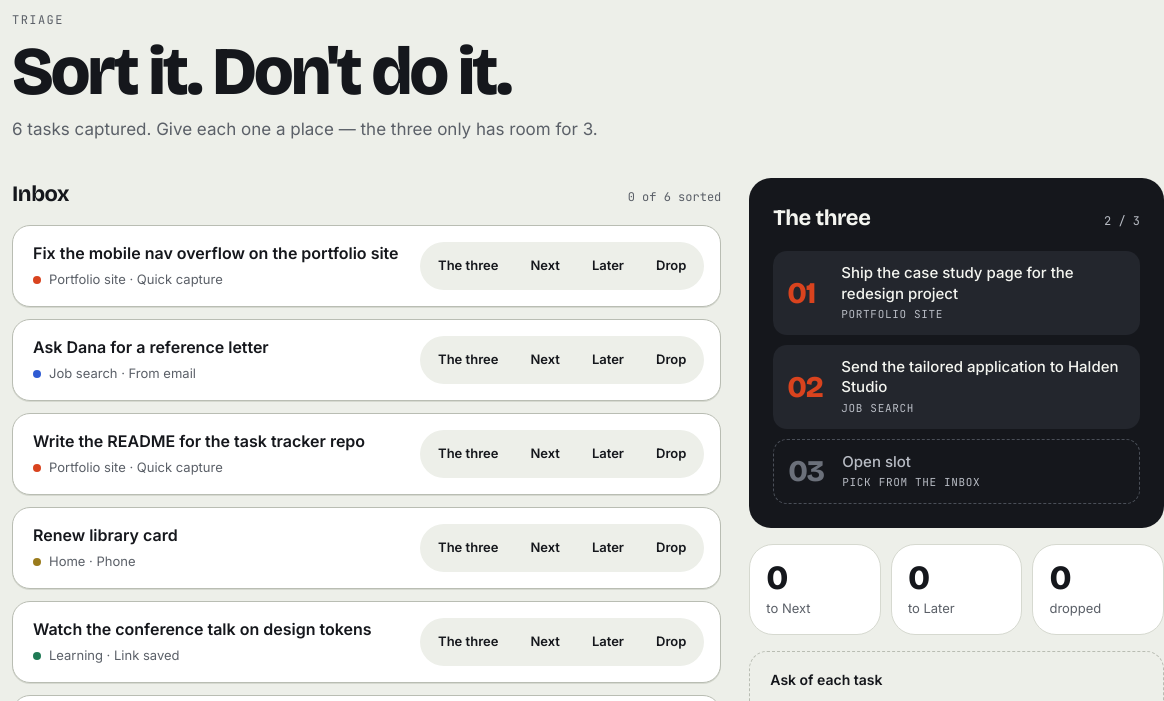
Test: Triage › fills an open slot, then locks the rest
expect the text "Open slot" is shown: met, box [842, 452, 911, 471]
Click the button "The three" next to "Ask Dana for a reference letter": x=468, y=360 [424, 340, 512, 380]
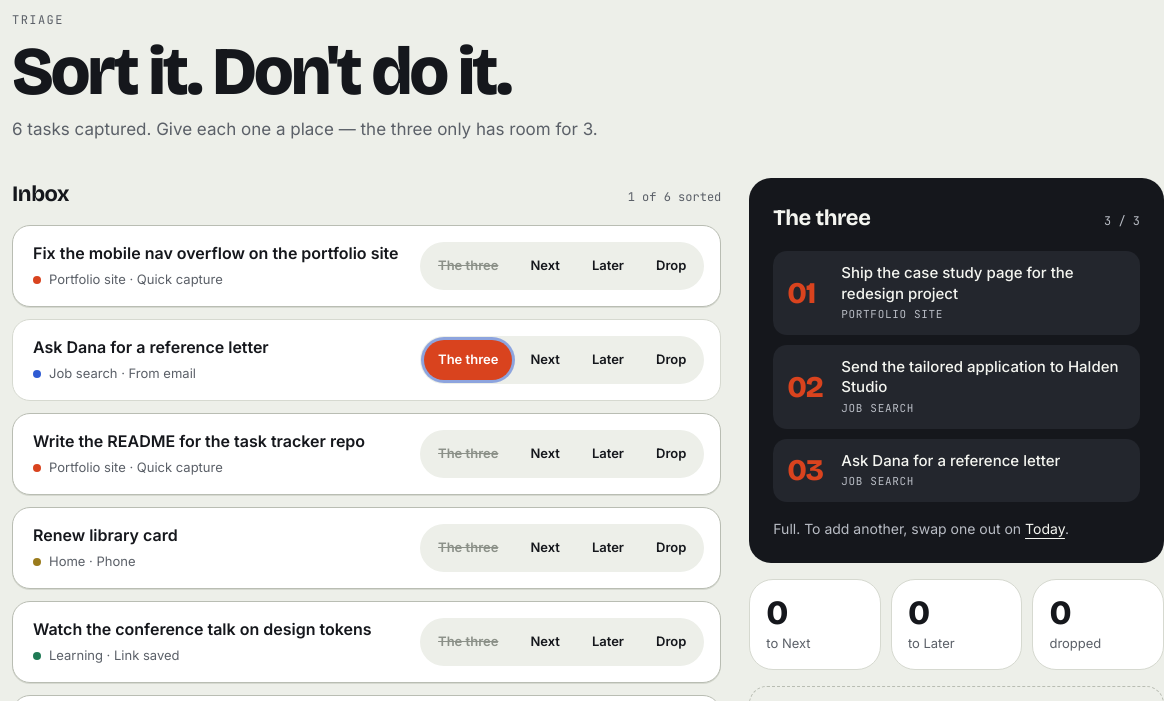
expect the text "Ask Dana for a reference letter" next to "03" is shown: met, box [841, 451, 1060, 470]
expect the button "The three" in the row of "Renew library card" is disabled: met, box [424, 528, 512, 568]
